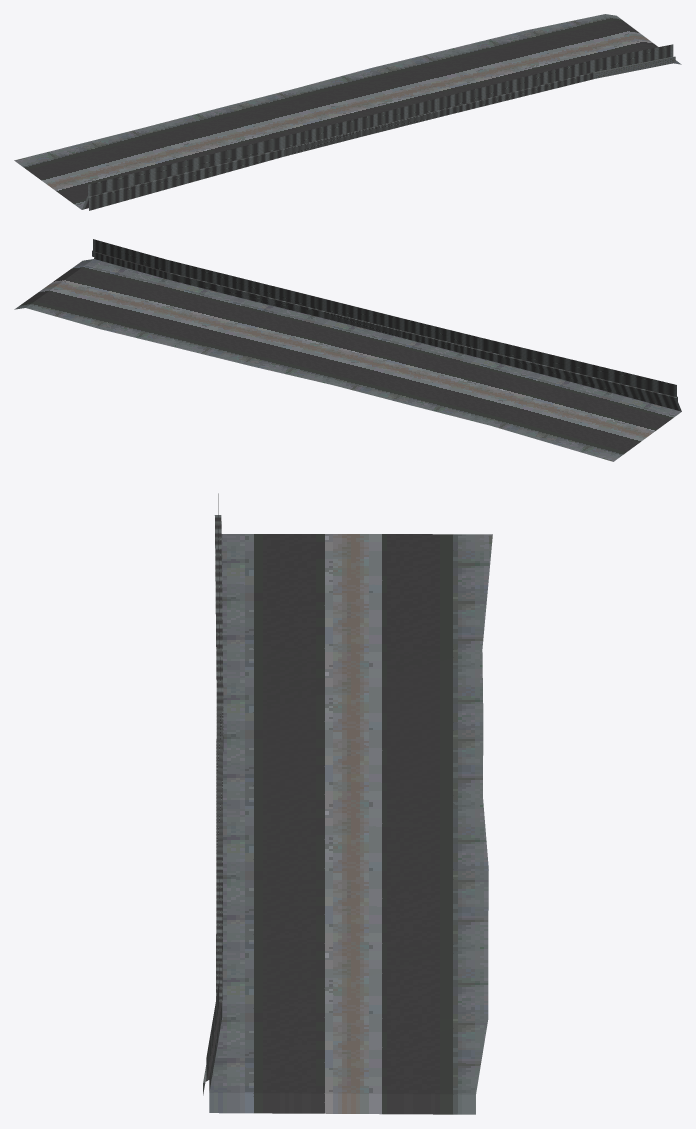
File: lod_nwcstrd4.obj
3 views of the same model, one above another, from view 1: azimuth 30°, elevation 25°; view 2: azimuth 150°, elevation 25°; view 3: azimuth 270°, elevation 25° (orthographic). The views are drawn at different scales.
Visible parts, largest first — view 1: lod_NWCSTRD4; view 2: lod_NWCSTRD4; view 3: lod_NWCSTRD4.
Part boxes in pixels (left/top/right/bottom): lod_NWCSTRD4: left=14, top=14, right=681, bottom=210; lod_NWCSTRD4: left=14, top=239, right=681, bottom=461; lod_NWCSTRD4: left=203, top=493, right=492, bottom=1114.
Size of the model in its own units: 195 by 8.36 by 41.
2 materials, 2 textured.
